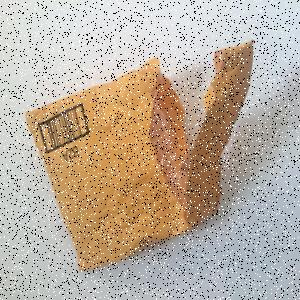Trash: (25, 39, 255, 272)
